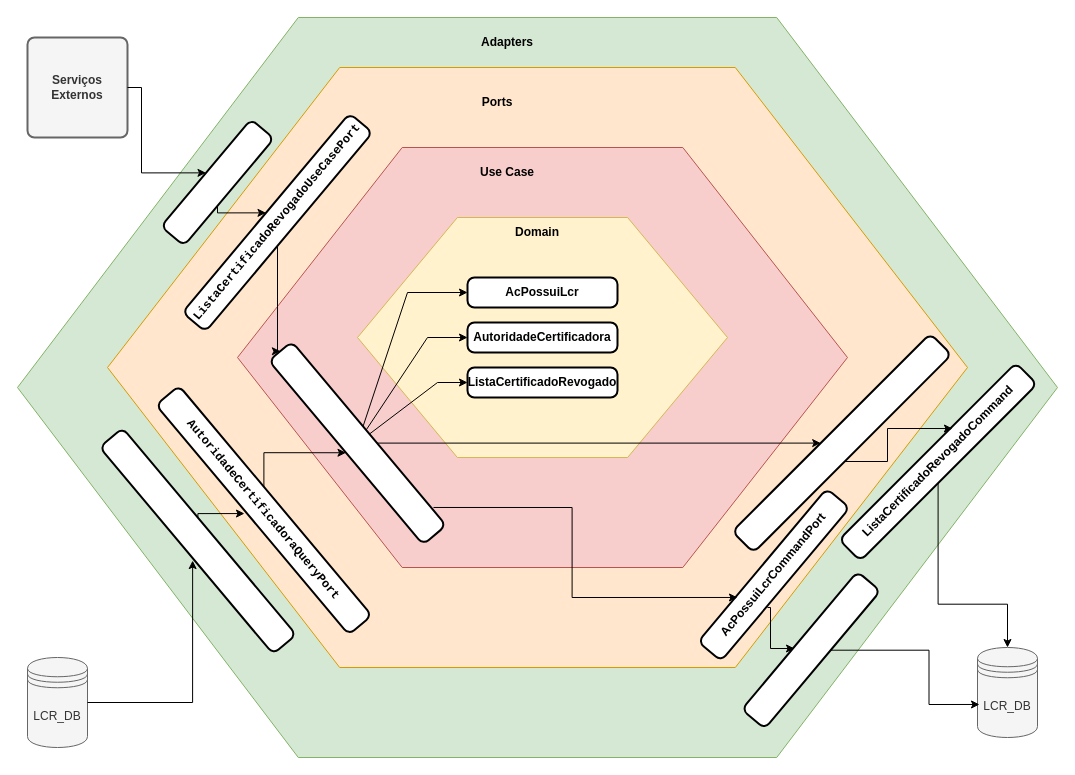
This 1075x775 diagram has some shape labels left out. Each missing label, with the centre of its shape:
AcPossuiLcrCommand: point 810,650
APILcrController: point 217,182
AutoridadeCertificadoraQuery: point 197,540
ListaCertificadoRevogadoCommandPort: point 841,443
ListaCertificadoRevogadoUseCase: point 357,443
